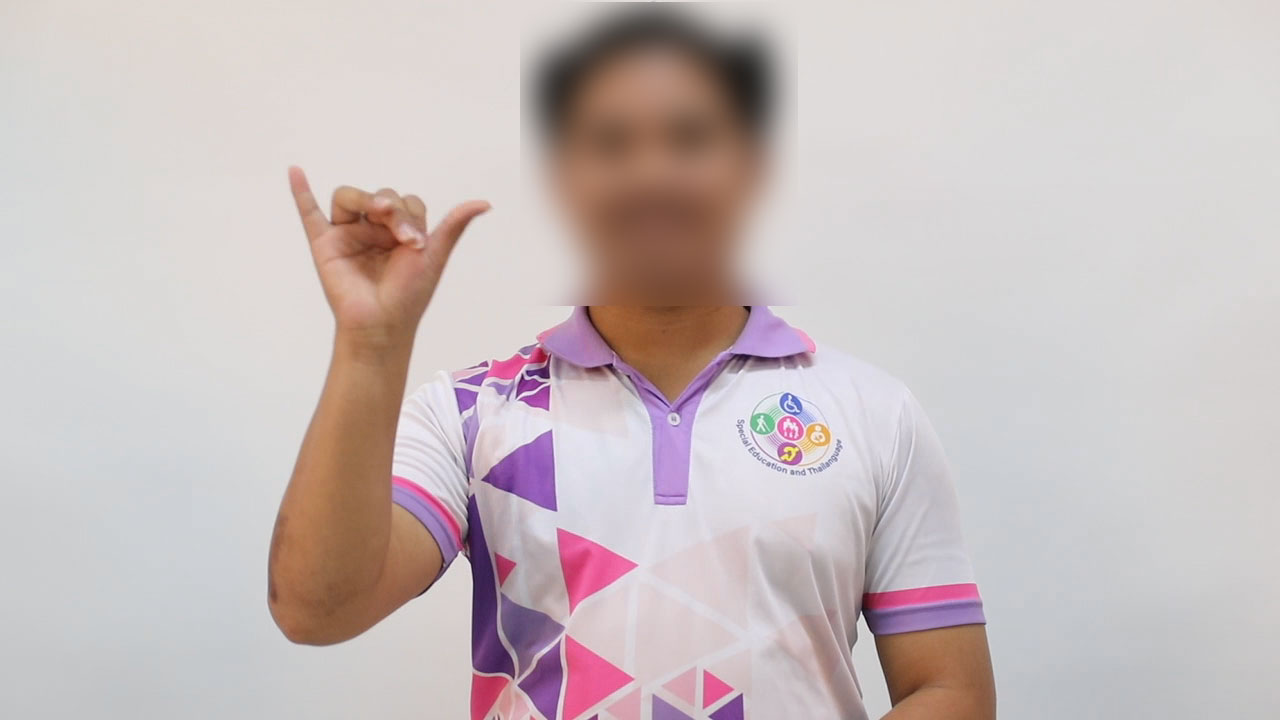yor: (268, 159, 505, 358)
